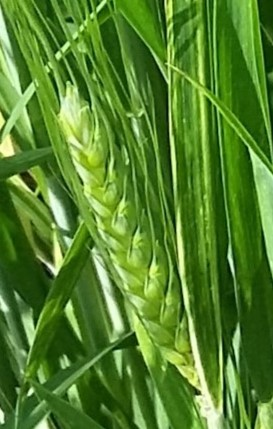Healthy Wheat: (58, 94, 199, 362)
